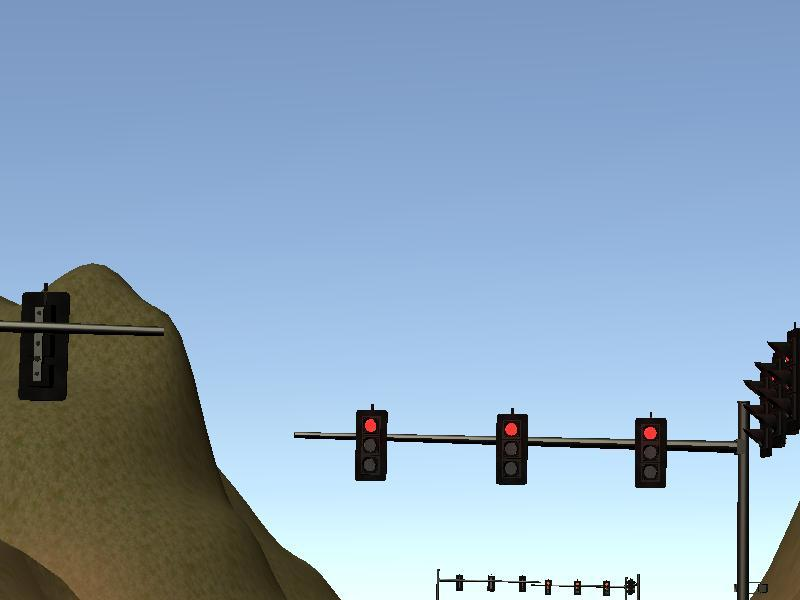Red: (354, 409, 386, 482), (634, 416, 666, 489), (496, 413, 528, 486), (602, 580, 610, 597), (573, 578, 580, 595), (545, 578, 551, 597)
